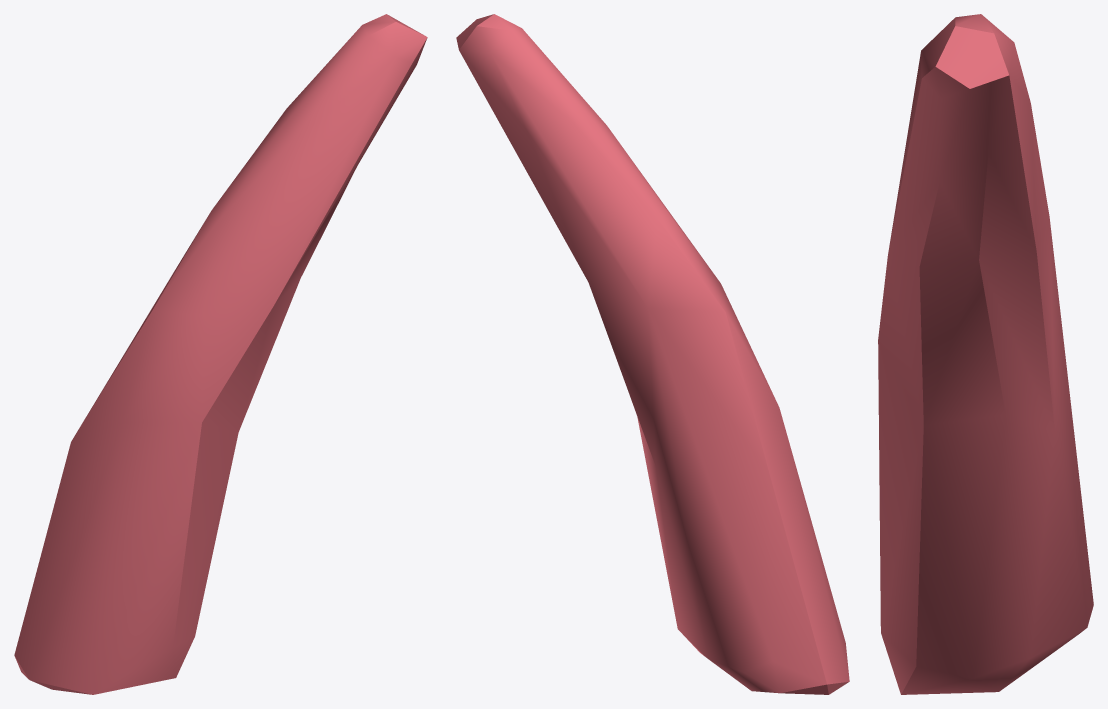
The model's file is fma8642_fj2889.glb.
The picture shows the model from 3 angles, left to right: view 1: azimuth 30°, elevation 25°; view 2: azimuth 150°, elevation 25°; view 3: azimuth 270°, elevation 25°; orthographic projection. The views are drawn at different scales.
Visible parts, largest first — view 1: FMA8642_FJ2889; view 2: FMA8642_FJ2889; view 3: FMA8642_FJ2889.
Boxes of the visible parts, x1,y1,x2,y2 form: FMA8642_FJ2889: (14,14,427,694); FMA8642_FJ2889: (456,14,849,694); FMA8642_FJ2889: (878,14,1093,694).
Size of the model in its own units: 0.00781 by 0.0111 by 0.00259.
